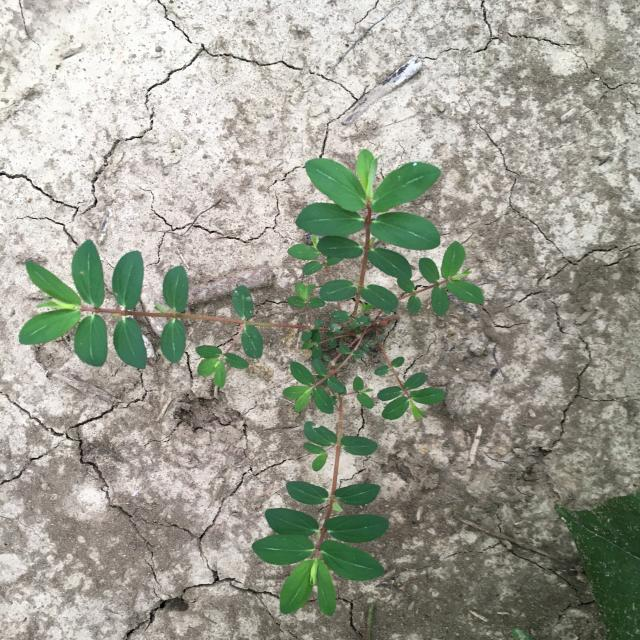SpottedSpurge: (18, 148, 485, 617)
